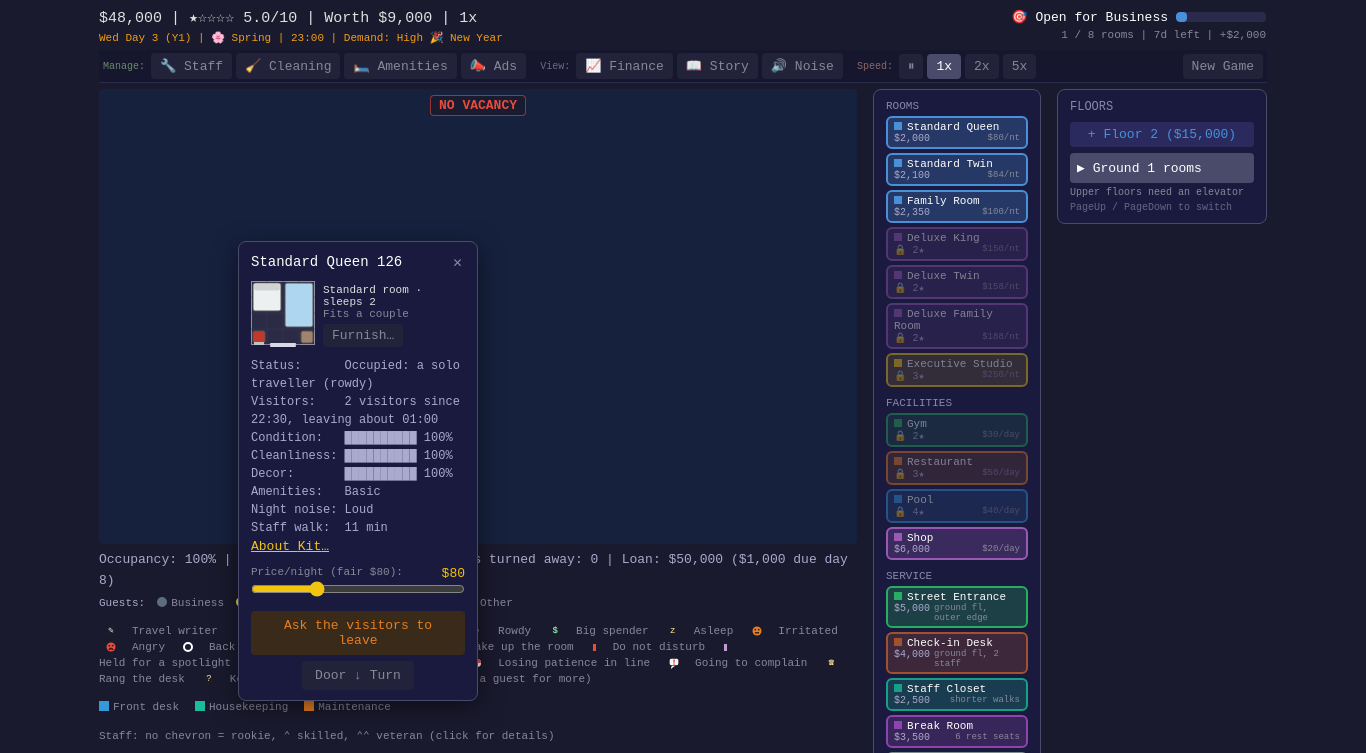
Test case: Guests and service › friends round: the room and guest cards say so, and the front desk can ask them to leave (once)
Click the button "About Kit…".
click(290, 546)  # box [251,539,329,554]
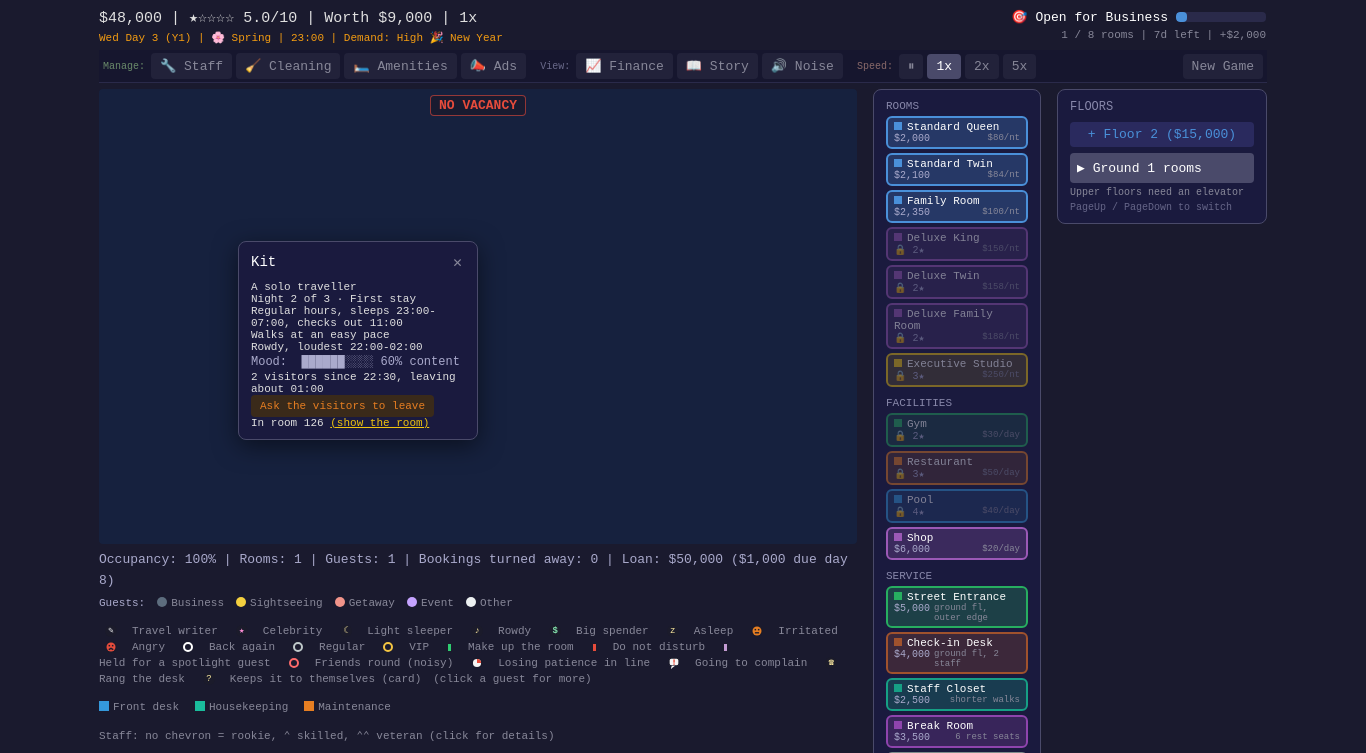
Check: the dialog "Kit" shows "2 visitors since 22:30, leaving about 01:00", box [251,371,456,395]
Click the button "Ask the visitors to leave".
click(342, 406)  # box [251,395,434,417]
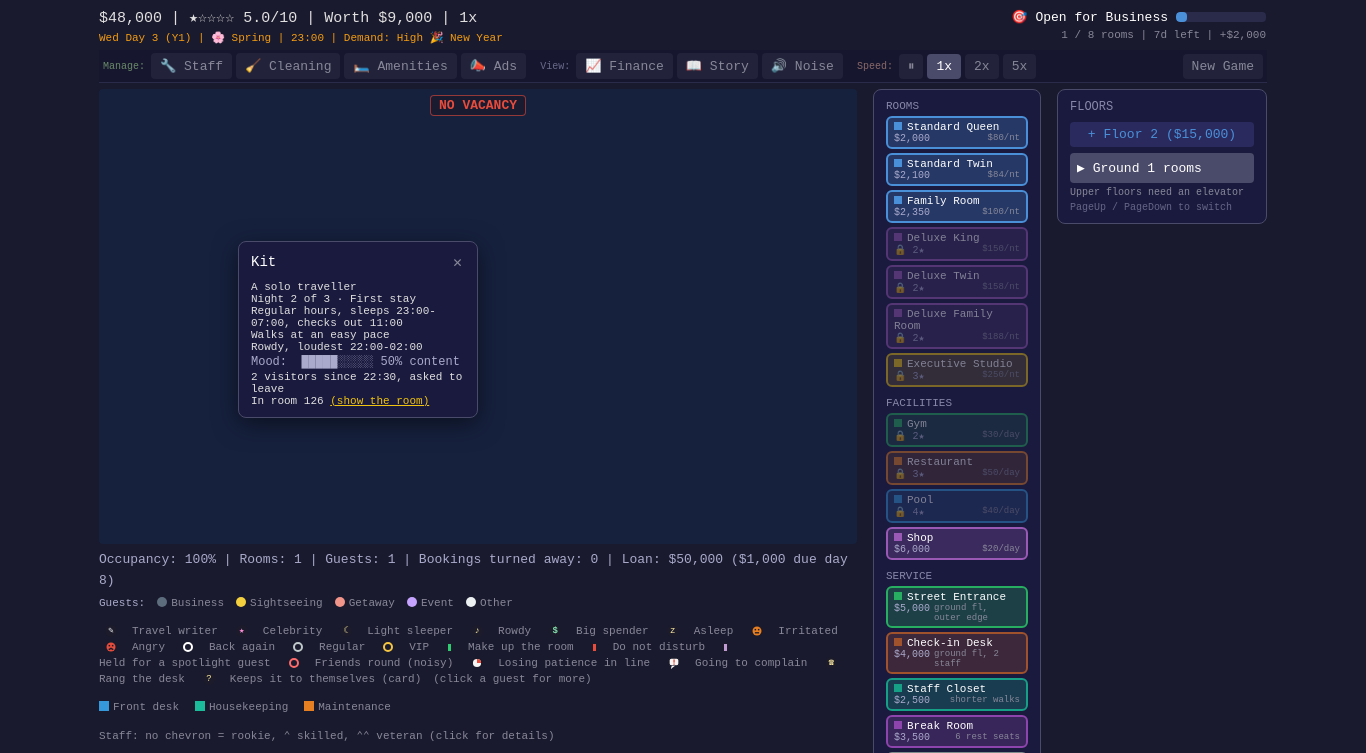
Check: the button "Ask the visitors to leave" is gone
Check: the dialog "Kit" shows "asked to leave", box [251,371,462,395]
